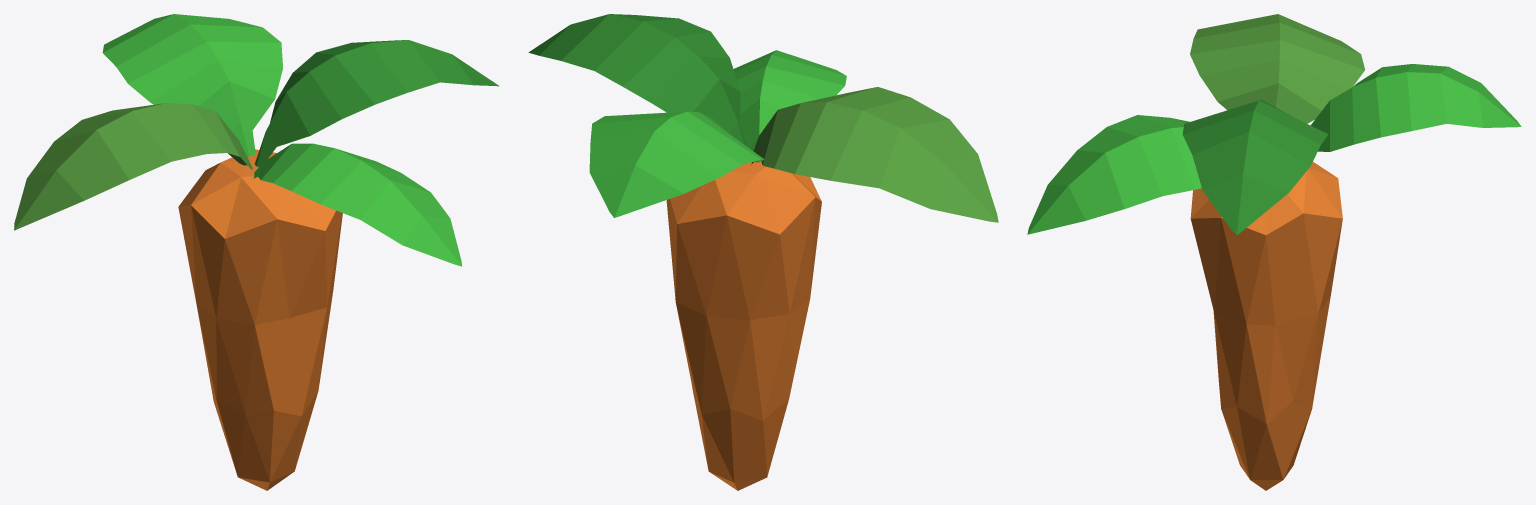
File: Carrot.fbx
The picture shows the model from 3 angles, left to right: view 1: azimuth 30°, elevation 25°; view 2: azimuth 150°, elevation 25°; view 3: azimuth 270°, elevation 25°; orthographic projection. The views are drawn at different scales.
Visible parts, largest first — view 1: Icosphere, Plane, Plane.001, Plane.002, Plane.003; view 2: Icosphere, Plane.001, Plane.002, Plane, Plane.003; view 3: Icosphere, Plane.001, Plane.003, Plane.002, Plane.
Part boxes in pixels (x1=…): Icosphere: x1=178, y1=149, x2=342, y2=490; Plane: x1=102, y1=14, x2=282, y2=156; Plane.001: x1=14, y1=103, x2=252, y2=230; Plane.002: x1=254, y1=40, x2=499, y2=167; Plane.003: x1=253, y1=143, x2=462, y2=266; Icosphere: x1=666, y1=161, x2=821, y2=490; Plane.001: x1=751, y1=87, x2=998, y2=222; Plane.002: x1=528, y1=14, x2=747, y2=146; Plane: x1=589, y1=111, x2=764, y2=217; Plane.003: x1=733, y1=50, x2=846, y2=150; Icosphere: x1=1190, y1=162, x2=1342, y2=490; Plane.001: x1=1190, y1=14, x2=1364, y2=123; Plane.003: x1=1027, y1=115, x2=1201, y2=234; Plane.002: x1=1182, y1=99, x2=1328, y2=234; Plane: x1=1311, y1=64, x2=1521, y2=151.
Size of the model in its own units: 64.54 by 56.03 by 58.63.
